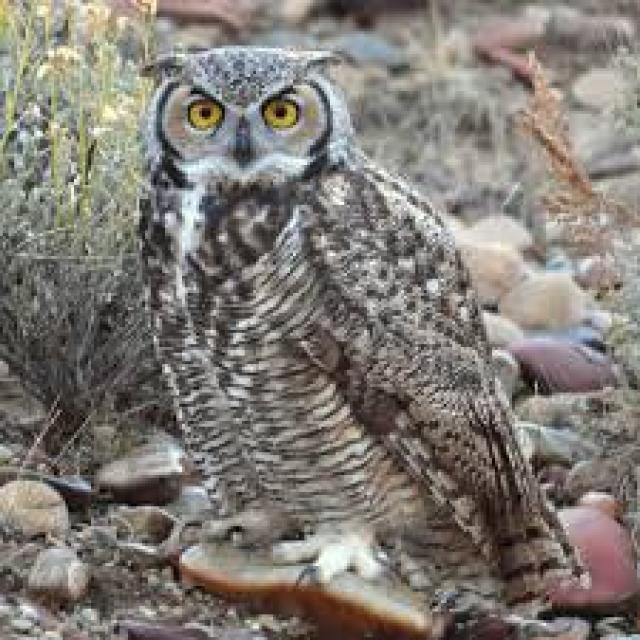Owl: (120, 35, 593, 610)
